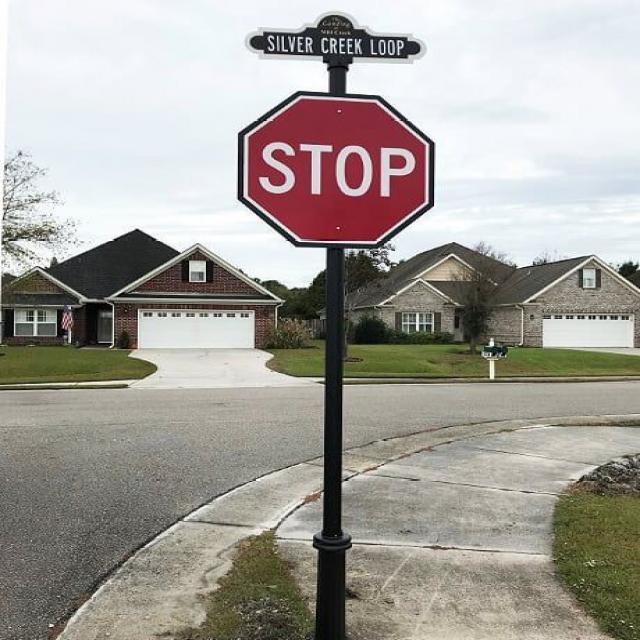stop: (236, 89, 435, 249)
